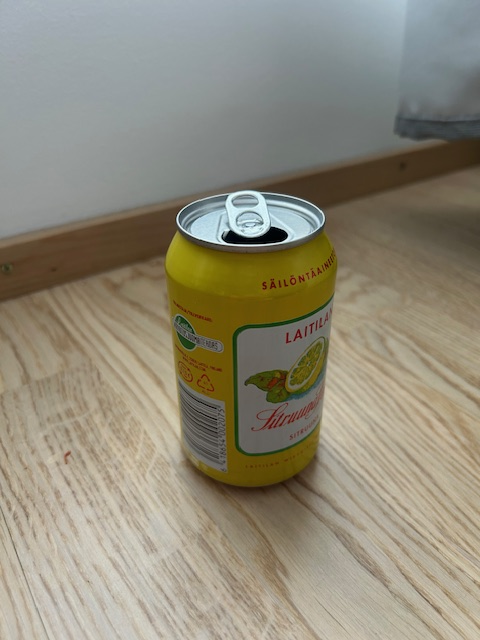Pantburk: (163, 189, 337, 487)
